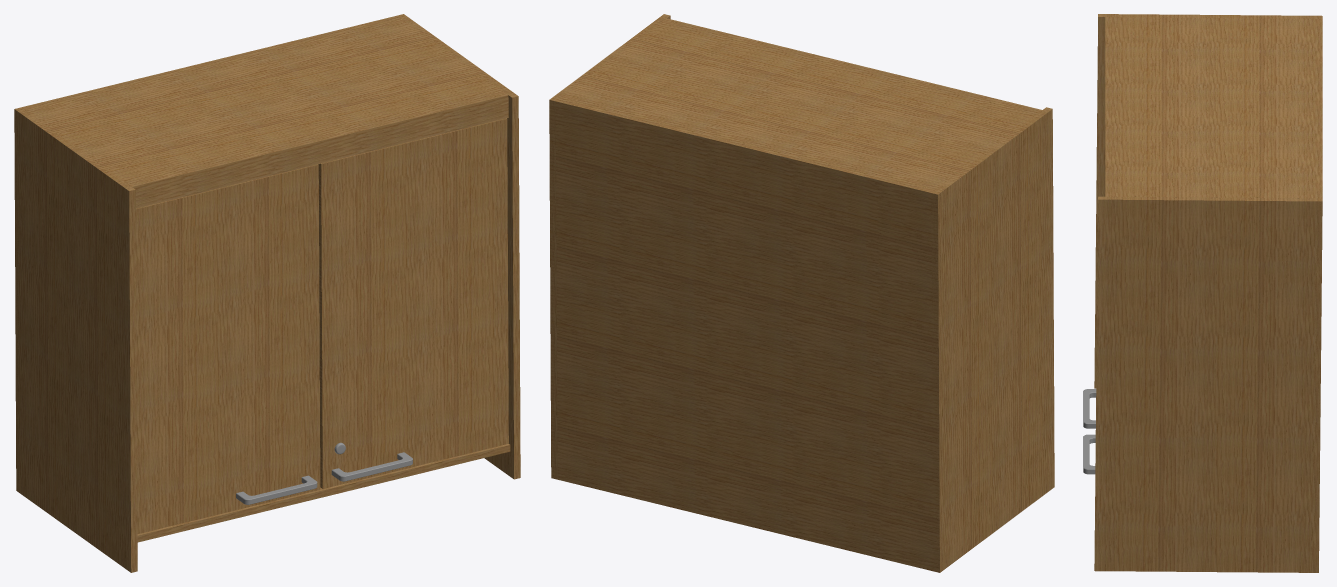
Rendered from shelf.obj.
3 renders of one model, left to right at view 1: azimuth 30°, elevation 25°; view 2: azimuth 150°, elevation 25°; view 3: azimuth 270°, elevation 25°, orthographic. The views are drawn at different scales.
Visible parts, largest first — view 1: Rectangle6, Rectangle1, Rectangle3, Rectangle7, Rectangle8, Rectangle0, Rectangle2, Rectangle4, Rectangle5; view 2: Rectangle2, Rectangle7, Rectangle3, Rectangle8; view 3: Rectangle8, Rectangle3, Rectangle2, Rectangle7, Rectangle4, Rectangle5.
Boxes of the visible parts, x1=… form: Rectangle6: x1=318, y1=118, x2=508, y2=488; Rectangle1: x1=136, y1=164, x2=320, y2=534; Rectangle3: x1=25, y1=18, x2=508, y2=208; Rectangle7: x1=14, y1=107, x2=137, y2=572; Rectangle8: x1=397, y1=14, x2=520, y2=479; Rectangle0: x1=137, y1=444, x2=510, y2=542; Rectangle2: x1=14, y1=15, x2=400, y2=492; Rectangle4: x1=236, y1=475, x2=317, y2=504; Rectangle5: x1=331, y1=452, x2=412, y2=481; Rectangle2: x1=549, y1=98, x2=943, y2=572; Rectangle7: x1=931, y1=107, x2=1054, y2=570; Rectangle3: x1=560, y1=18, x2=1041, y2=190; Rectangle8: x1=549, y1=14, x2=670, y2=479; Rectangle8: x1=1094, y1=196, x2=1322, y2=572; Rectangle3: x1=1105, y1=17, x2=1315, y2=198; Rectangle2: x1=1311, y1=19, x2=1322, y2=572; Rectangle7: x1=1094, y1=14, x2=1322, y2=388; Rectangle4: x1=1083, y1=389, x2=1096, y2=428; Rectangle5: x1=1083, y1=434, x2=1095, y2=474.
Size of the model in its own units: 20.02 by 18.78 by 10.91.
Materials: 3 (1 with a texture image).
